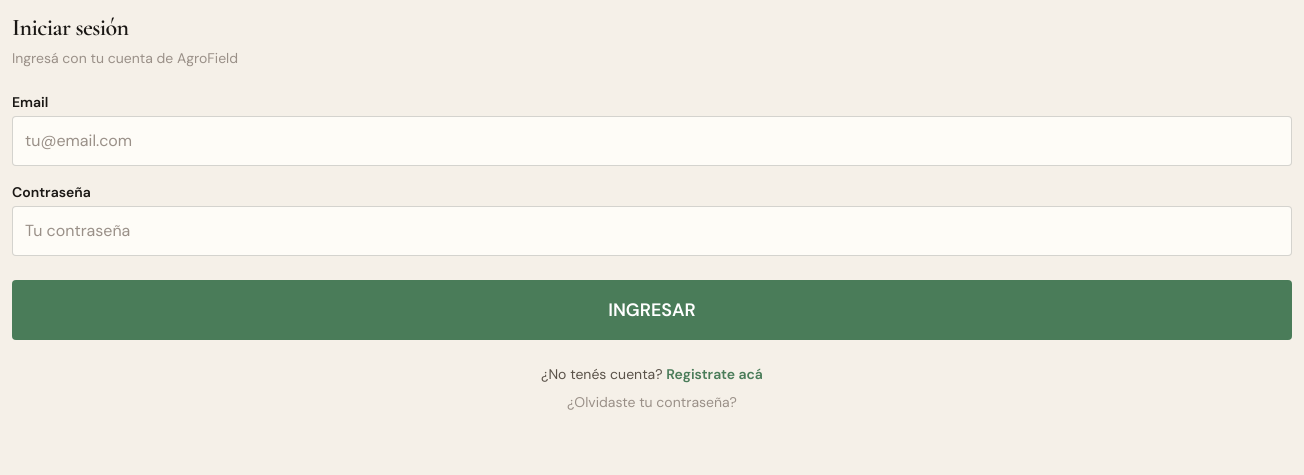
Test case: LoginPage › shows validation error for empty fields
The width and height of the screenshot is (1304, 475).
Click the button "INGRESAR" at (652,310), box top-left (12, 280), bottom-right (1292, 340)
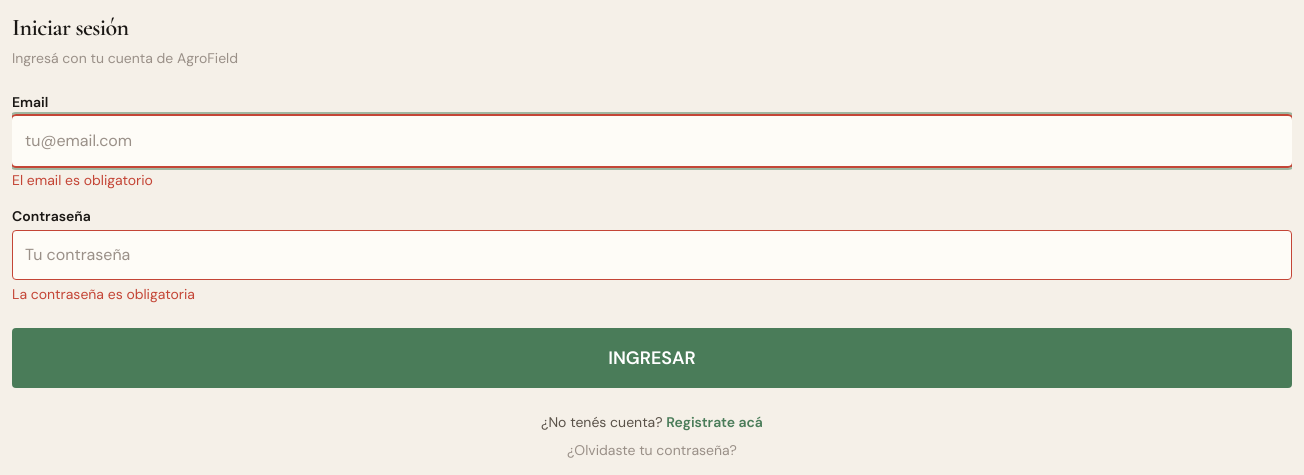
Result: the text "El email es obligatorio" is shown at top-left (12, 171), bottom-right (153, 189)
